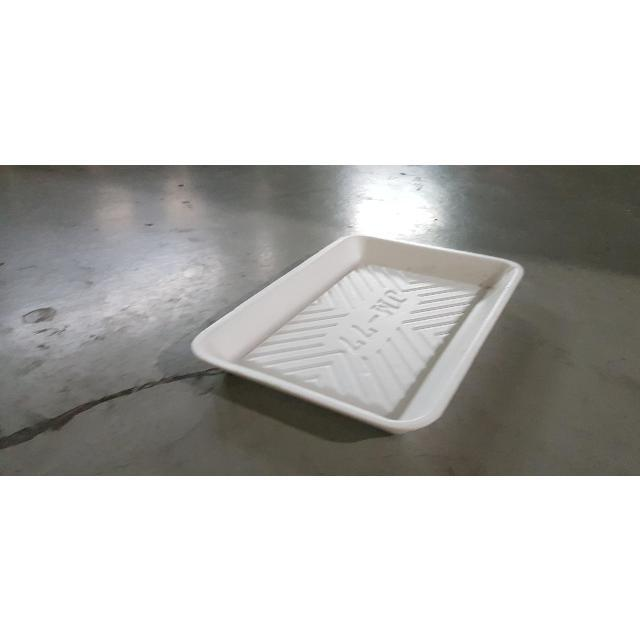Recipiente plastico: (187, 224, 515, 438)
